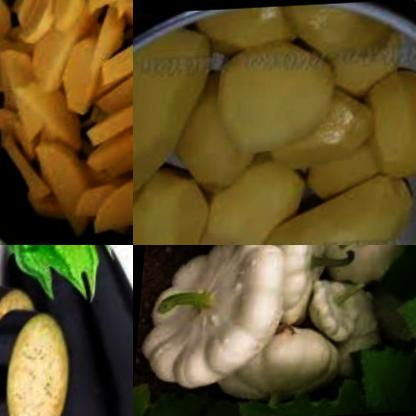eggplant: (0, 245, 133, 416), (0, 291, 82, 416)
potato: (0, 0, 133, 241), (214, 36, 340, 161), (133, 31, 210, 221), (176, 71, 265, 200), (269, 5, 390, 86), (184, 163, 299, 245), (350, 64, 416, 191), (282, 109, 377, 197), (268, 189, 414, 245), (324, 43, 407, 115), (201, 8, 300, 65), (133, 182, 216, 245)
squash-patisson: (141, 245, 416, 409)
